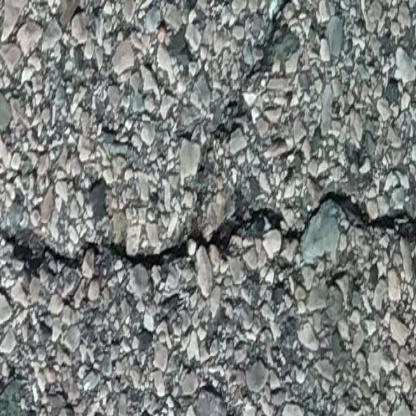Cracks: (0, 148, 416, 356), (189, 0, 322, 180)
